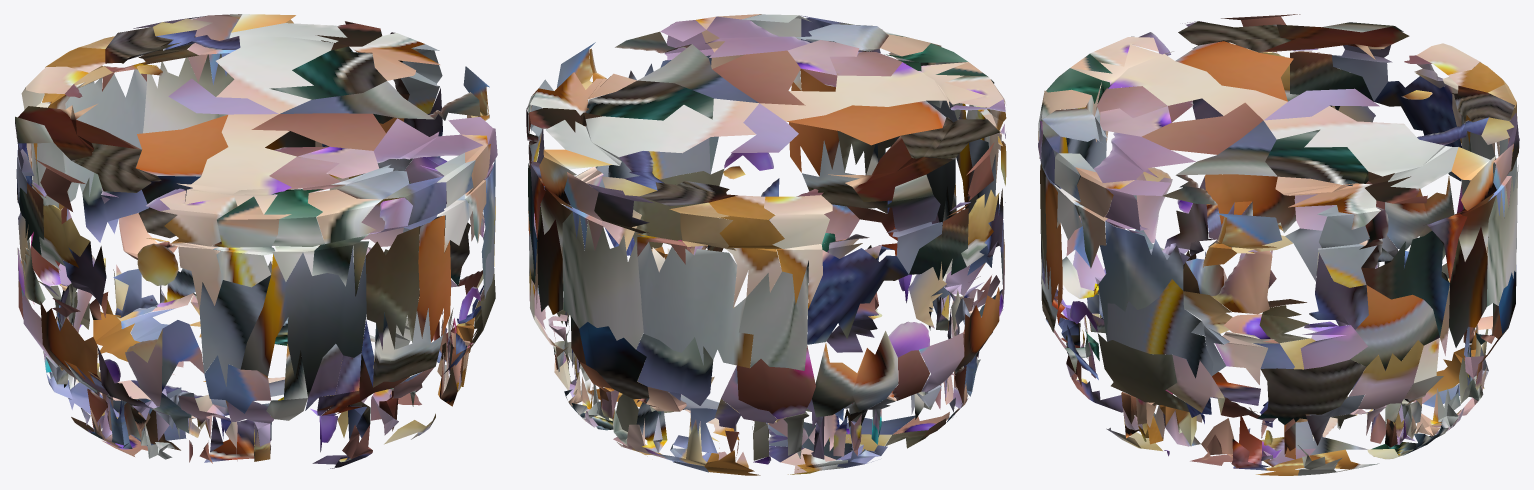
The model's file is Americo.fbx.
3 views of the same model, side by side, from view 1: azimuth 30°, elevation 25°; view 2: azimuth 150°, elevation 25°; view 3: azimuth 270°, elevation 25° (orthographic).
Visible parts, largest first — view 1: Mesh_0; view 2: Mesh_0; view 3: Mesh_0.
Part boxes in pixels (<box>): Mesh_0: <box>15,14,497,468</box>; Mesh_0: <box>526,14,1006,475</box>; Mesh_0: <box>1038,14,1519,475</box>.
Bounding box in the file's own units: 202 × 136 × 200.
